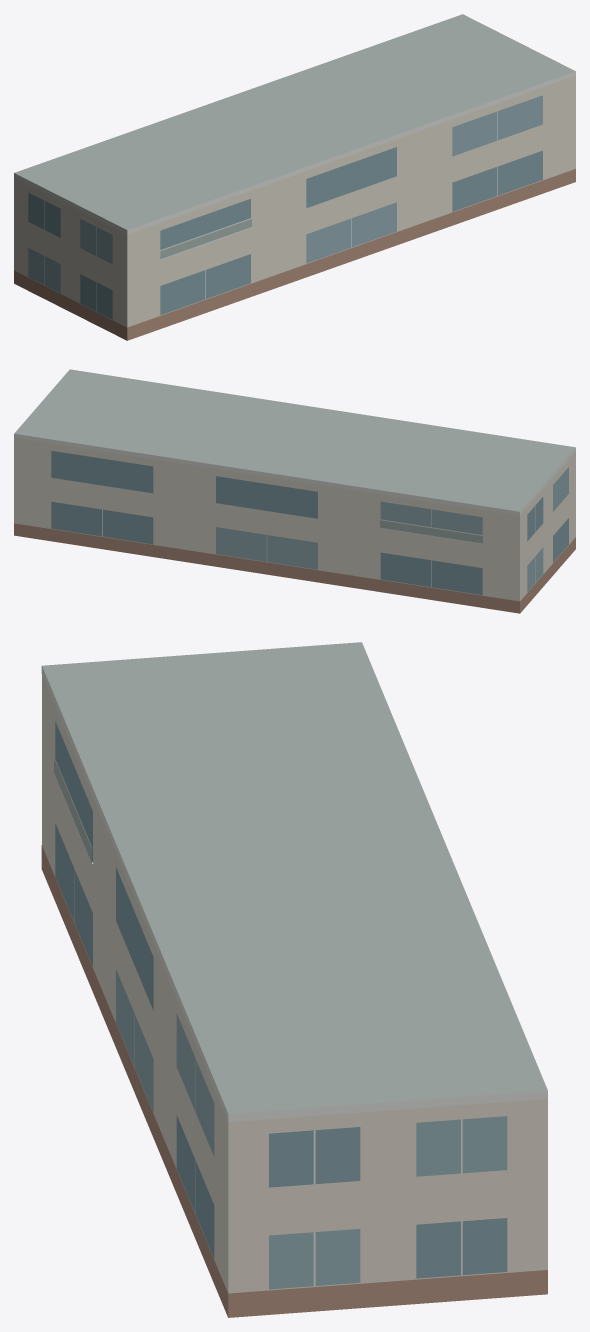
Rendered from survey-upis-32912596.glb.
3 views of the same model, one above another, from view 1: azimuth 30°, elevation 25°; view 2: azimuth 150°, elevation 25°; view 3: azimuth 270°, elevation 25° (orthographic). The views are drawn at different scales.
Parts seen in each view (by area): view 1: survey-upis-32912596.tmp; view 2: survey-upis-32912596.tmp; view 3: survey-upis-32912596.tmp.
Part boxes in pixels (left/top/right/bottom): survey-upis-32912596.tmp: left=14, top=14, right=575, bottom=340; survey-upis-32912596.tmp: left=14, top=369, right=575, bottom=613; survey-upis-32912596.tmp: left=41, top=642, right=547, bottom=1317.
Bounding box in the file's own units: 30.32 × 6.1 × 13.74.
